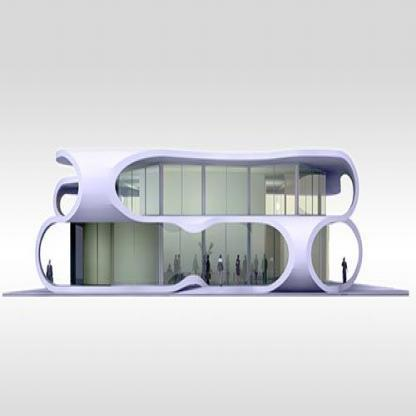Building Outline: (2, 148, 409, 297)
Facade: (2, 149, 409, 299)
Floor Slab: (120, 216, 326, 219)
Glass Wall: (251, 223, 295, 286), (114, 223, 158, 286), (206, 223, 247, 286), (163, 223, 201, 286), (251, 167, 295, 214), (120, 165, 159, 215), (206, 167, 247, 214), (163, 165, 201, 215), (84, 223, 112, 286), (303, 223, 329, 284), (300, 166, 326, 215), (76, 223, 82, 286)
Window: (39, 222, 289, 287), (115, 157, 355, 216), (310, 222, 359, 286), (56, 183, 78, 216)
